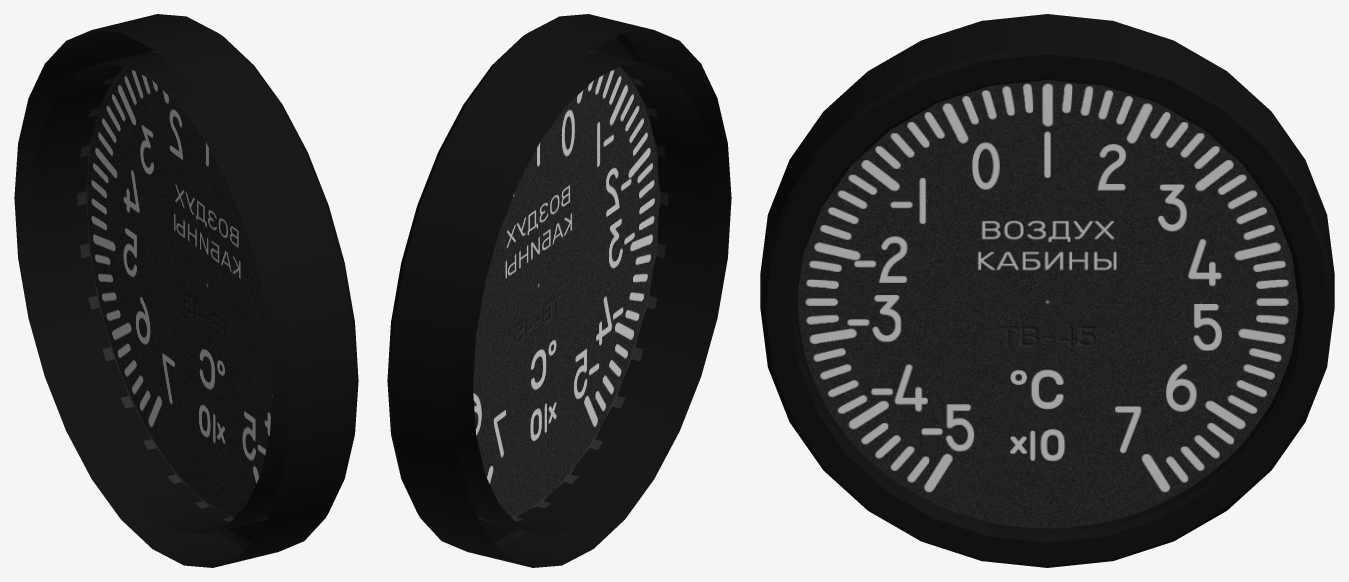
File: TV_46_for_rpi.obj
The picture shows the model from 3 angles, left to right: view 1: azimuth 30°, elevation 25°; view 2: azimuth 150°, elevation 25°; view 3: azimuth 270°, elevation 25°; orthographic projection. The views are drawn at different scales.
Visible parts, largest first — view 1: korpus017, Circle034; view 2: korpus017, Circle034; view 3: Circle034, korpus017.
Part boxes in pixels (x1,y1,x2,y2): korpus017: (14,14,358,567); Circle034: (77,51,272,521); korpus017: (387,14,731,567); Circle034: (473,51,668,521); Circle034: (796,80,1298,528); korpus017: (760,14,1334,567).
Size of the model in its own units: 10 by 67.57 by 67.57.
3 materials, 2 textured.
